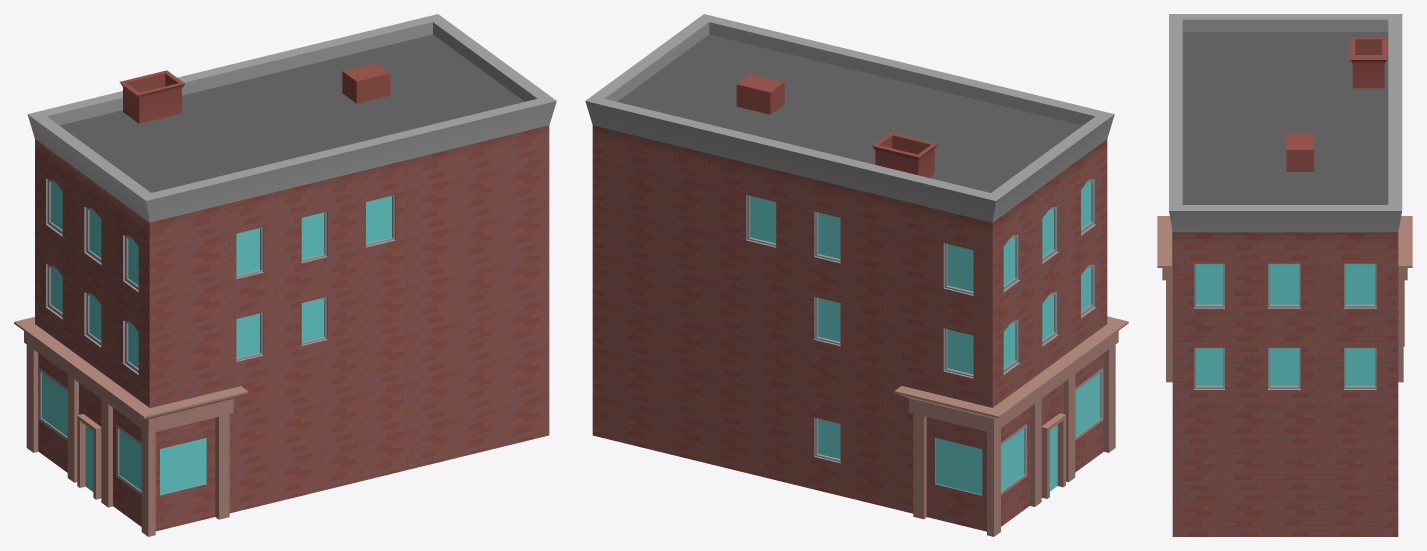
The model's file is building_low_rise.fbx.
The picture shows the model from 3 angles, left to right: view 1: azimuth 30°, elevation 25°; view 2: azimuth 150°, elevation 25°; view 3: azimuth 270°, elevation 25°; orthographic projection.
Visible parts, largest first — view 1: building_low_rise; view 2: building_low_rise; view 3: building_low_rise.
Boxes of the visible parts, x1,y1,x2,y2 form: building_low_rise: (14, 14, 556, 536); building_low_rise: (585, 14, 1128, 536); building_low_rise: (1157, 14, 1412, 536).
Bounding box in the file's own units: 12.37 × 9.94 × 6.64.
